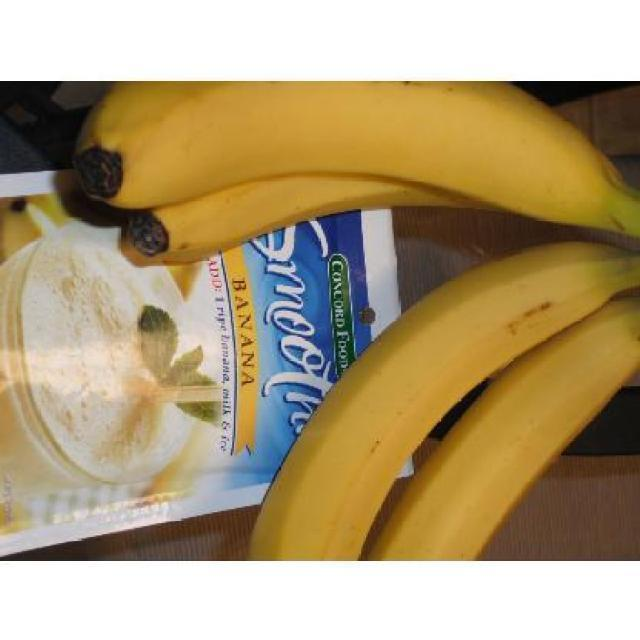Banana: (72, 117, 632, 528), (71, 79, 640, 238), (363, 296, 640, 559), (127, 174, 507, 260)
